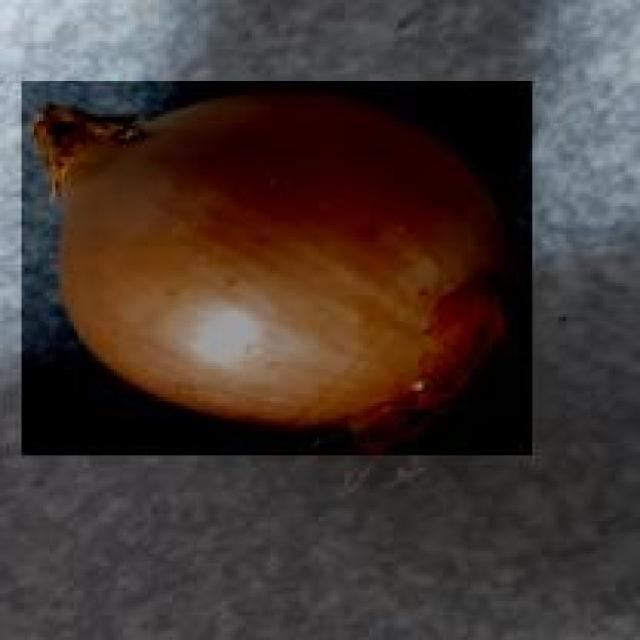onion: (22, 80, 536, 458)
